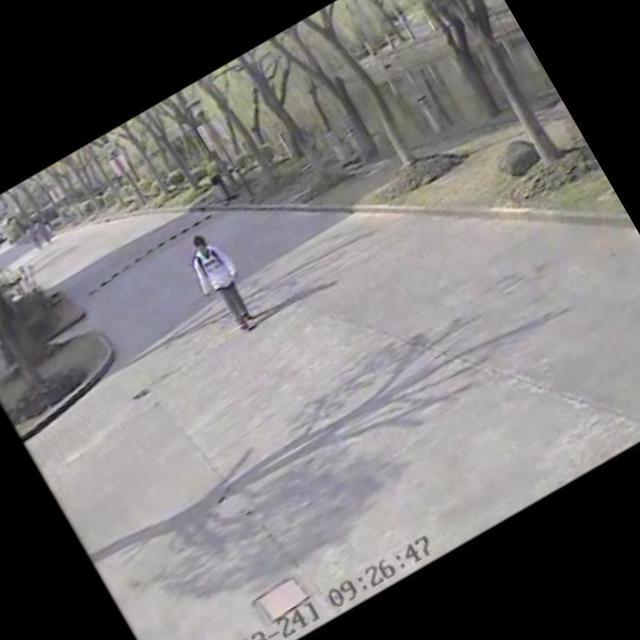person: (165, 216, 274, 348), (19, 220, 48, 256), (29, 214, 56, 248)
